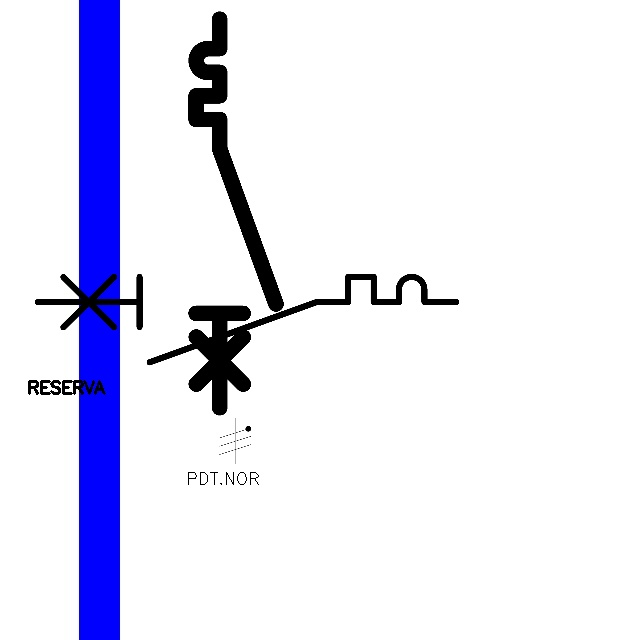interruptor_termomagnetico: (27, 266, 467, 373), (186, 9, 286, 418)
